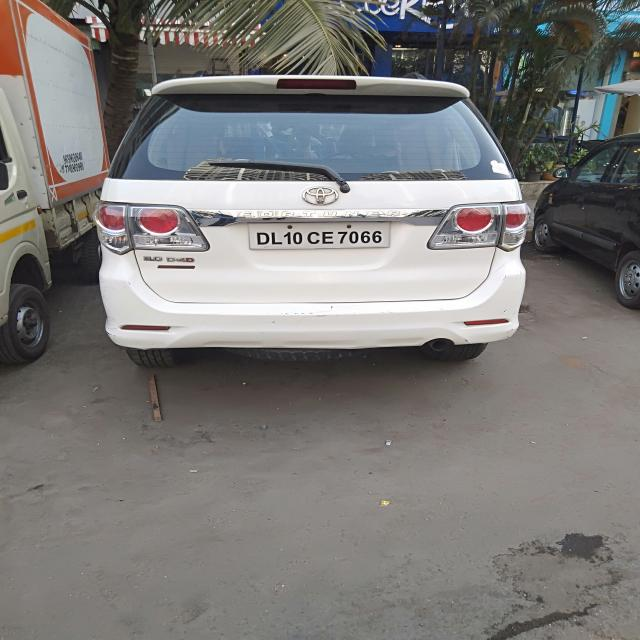Number-Plate: (252, 220, 384, 250)
